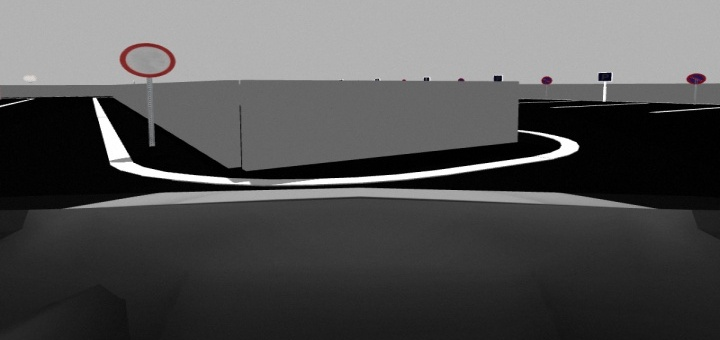girilmez: (119, 42, 177, 80)
